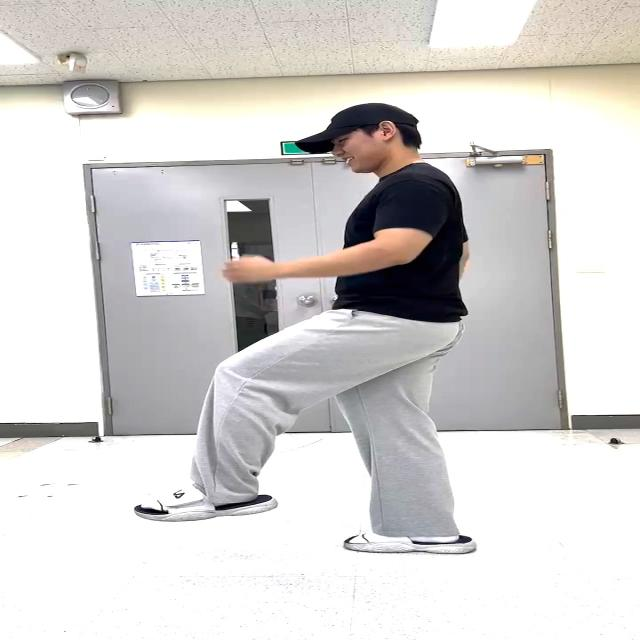leg: (138, 314, 373, 538)
